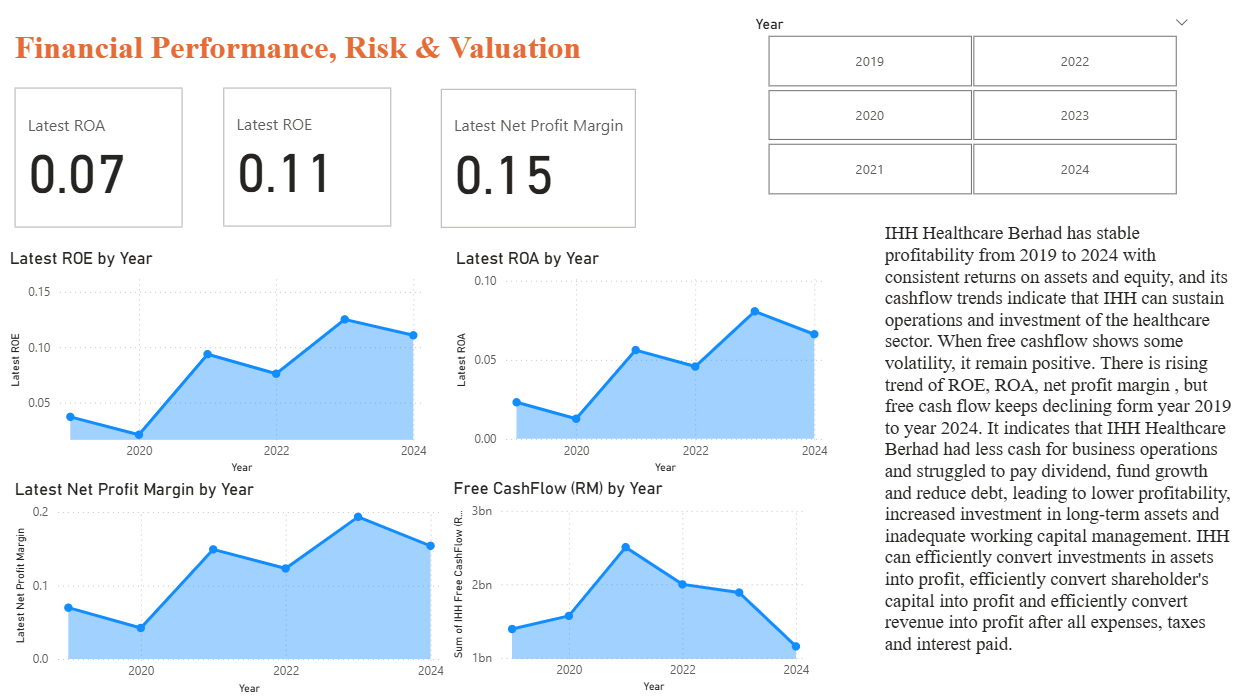

The dashboard page shown, as its layout file describes it:
{"tool":"powerbi","page":{"name":"Financial Performance & Valuation Dashboard","canvas":[1280,720],"ordinal":0},"visuals":[{"type":"textbox","box":[893.9,238.5,357.1,453.7],"z":0},{"type":"textbox","box":[23.2,30.6,821.7,58.7],"z":1000},{"type":"cardVisual","fields":{"Data":["IHH Final Datasets (Sheet1).Latest ROA"]},"box":[23.2,89.3,178.5,150.4],"z":2000},{"type":"cardVisual","fields":{"Data":["IHH Final Datasets (Sheet1).Latest ROE"]},"box":[232.3,89.3,178.5,149.2],"z":3000},{"type":"cardVisual","fields":{"Data":["IHH Final Datasets (Sheet1).Latest Net Profit Margin"]},"box":[450,90.5,205.4,149.2],"z":4000},{"type":"lineChart","fields":{"Category":["IHH Final Datasets (Sheet1).Year"],"Y":["IHH Final Datasets (Sheet1).Latest ROE"]},"box":[18.3,253.1,426.8,231.1],"z":5000},{"type":"lineChart","title":"Latest ROA by Year","fields":{"Category":["IHH Final Datasets (Sheet1).Year"],"Y":["IHH Final Datasets (Sheet1).Latest ROA"]},"box":[464.7,253.1,381.5,231.1],"z":6000},{"type":"lineChart","fields":{"Category":["IHH Final Datasets (Sheet1).Year"],"Y":["IHH Final Datasets (Sheet1).Latest Net Profit Margin"]},"box":[23.2,485.5,439,220.1],"z":7000},{"type":"lineChart","title":" Free CashFlow (RM) by Year","fields":{"Category":["IHH Final Datasets (Sheet1).Year"],"Y":["Sum(IHH Final Datasets (Sheet1).IHH Free CashFlow (RM))"]},"box":[462.2,484.2,365.6,220.1],"z":8000},{"type":"slicer","fields":{"Values":["IHH Final Datasets (Sheet1).Year"]},"box":[756.9,30.6,458.6,190.8],"z":9000}]}

Visuals, with their boxes in screenshot pixels (x1, y1, x2, y2), scaled from the page's 1280x720 canvas onto the 1237x700 screenshot:
textbox: <bbox>864, 232, 1209, 673</bbox>
textbox: <bbox>22, 30, 817, 87</bbox>
cardVisual - IHH Final Datasets (Sheet1).Latest ROA: <bbox>22, 87, 195, 233</bbox>
cardVisual - IHH Final Datasets (Sheet1).Latest ROE: <bbox>224, 87, 397, 232</bbox>
cardVisual - IHH Final Datasets (Sheet1).Latest Net Profit Margin: <bbox>435, 88, 633, 233</bbox>
lineChart - IHH Final Datasets (Sheet1).Year x IHH Final Datasets (Sheet1).Latest ROE: <bbox>18, 246, 430, 471</bbox>
"Latest ROA by Year" lineChart: <bbox>449, 246, 818, 471</bbox>
lineChart - IHH Final Datasets (Sheet1).Year x IHH Final Datasets (Sheet1).Latest Net Profit Margin: <bbox>22, 472, 447, 686</bbox>
" Free CashFlow (RM) by Year" lineChart: <bbox>447, 471, 800, 685</bbox>
slicer - IHH Final Datasets (Sheet1).Year: <bbox>731, 30, 1175, 215</bbox>
